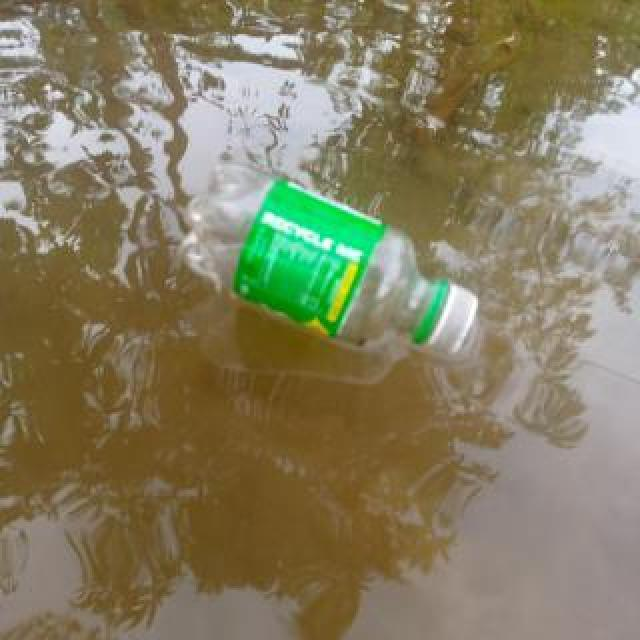bottle: (173, 156, 481, 362)
